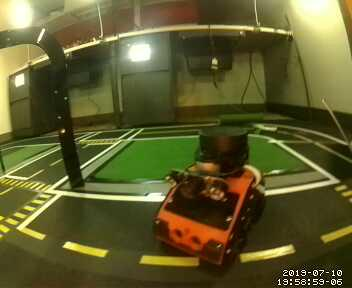pheeno: (149, 122, 270, 277)
